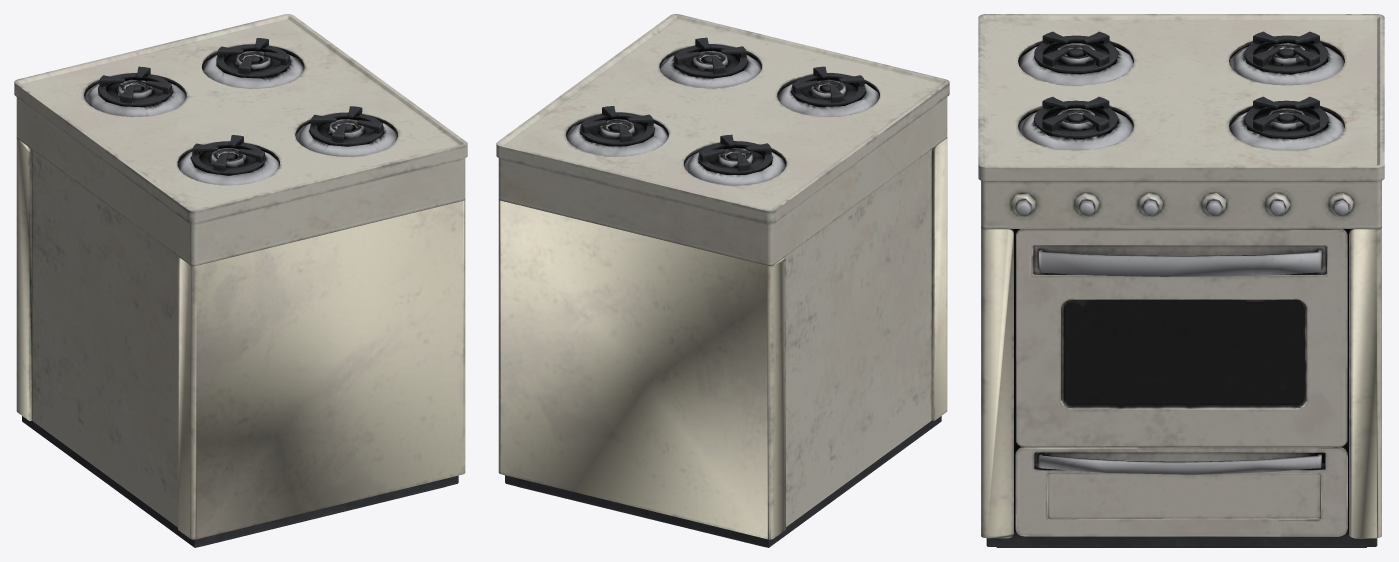
The model's file is stove.glb.
3 views of the same model, side by side, from view 1: azimuth 30°, elevation 25°; view 2: azimuth 150°, elevation 25°; view 3: azimuth 270°, elevation 25° (orthographic). The views are drawn at different scales.
Visible parts, largest first — view 1: stove; view 2: stove; view 3: stove.
Part boxes in pixels (bbox=[...]): stove: bbox=[14, 14, 467, 547]; stove: bbox=[496, 14, 949, 547]; stove: bbox=[978, 14, 1384, 547].
Size of the model in its own units: 1.02 by 1.19 by 1.09.
1 material, 1 textured.
